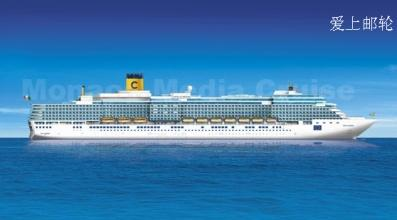youlun: (17, 69, 376, 140)
